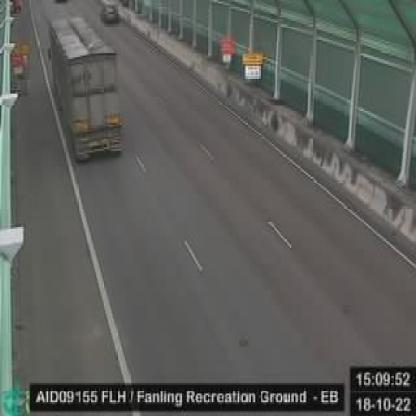Car: (100, 2, 119, 22)
Truck: (46, 17, 123, 167)
